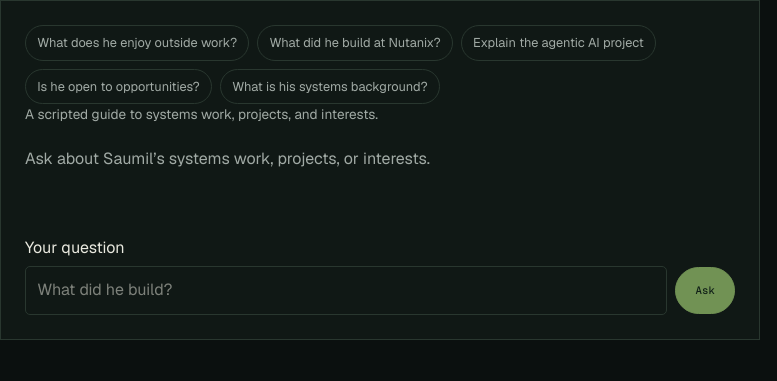
Test: presents provider errors accessibly
Type "projects" into the field labelled "Your question" at point(346, 290), box x1=25 y1=266 x2=667 y2=315
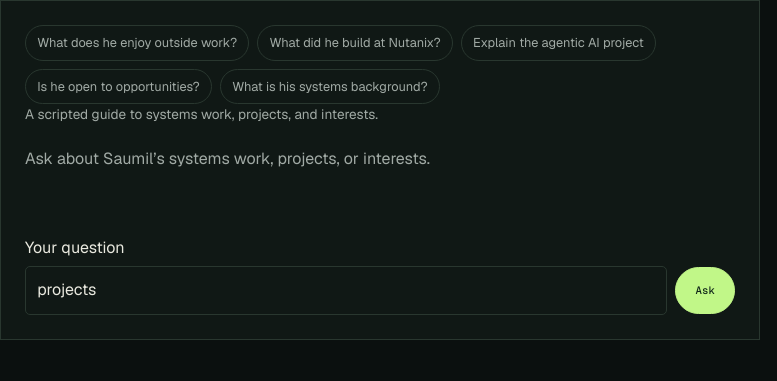
Submit the form "Your question Ask", box x1=25 y1=236 x2=735 y2=315
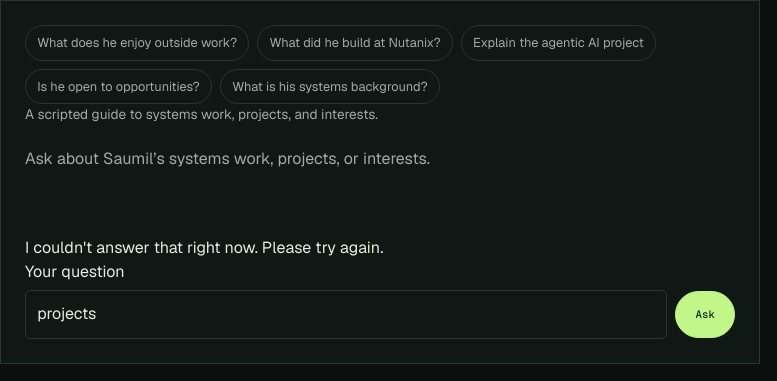
Now the message shows "couldn't answer", box x1=25 y1=237 x2=383 y2=258
